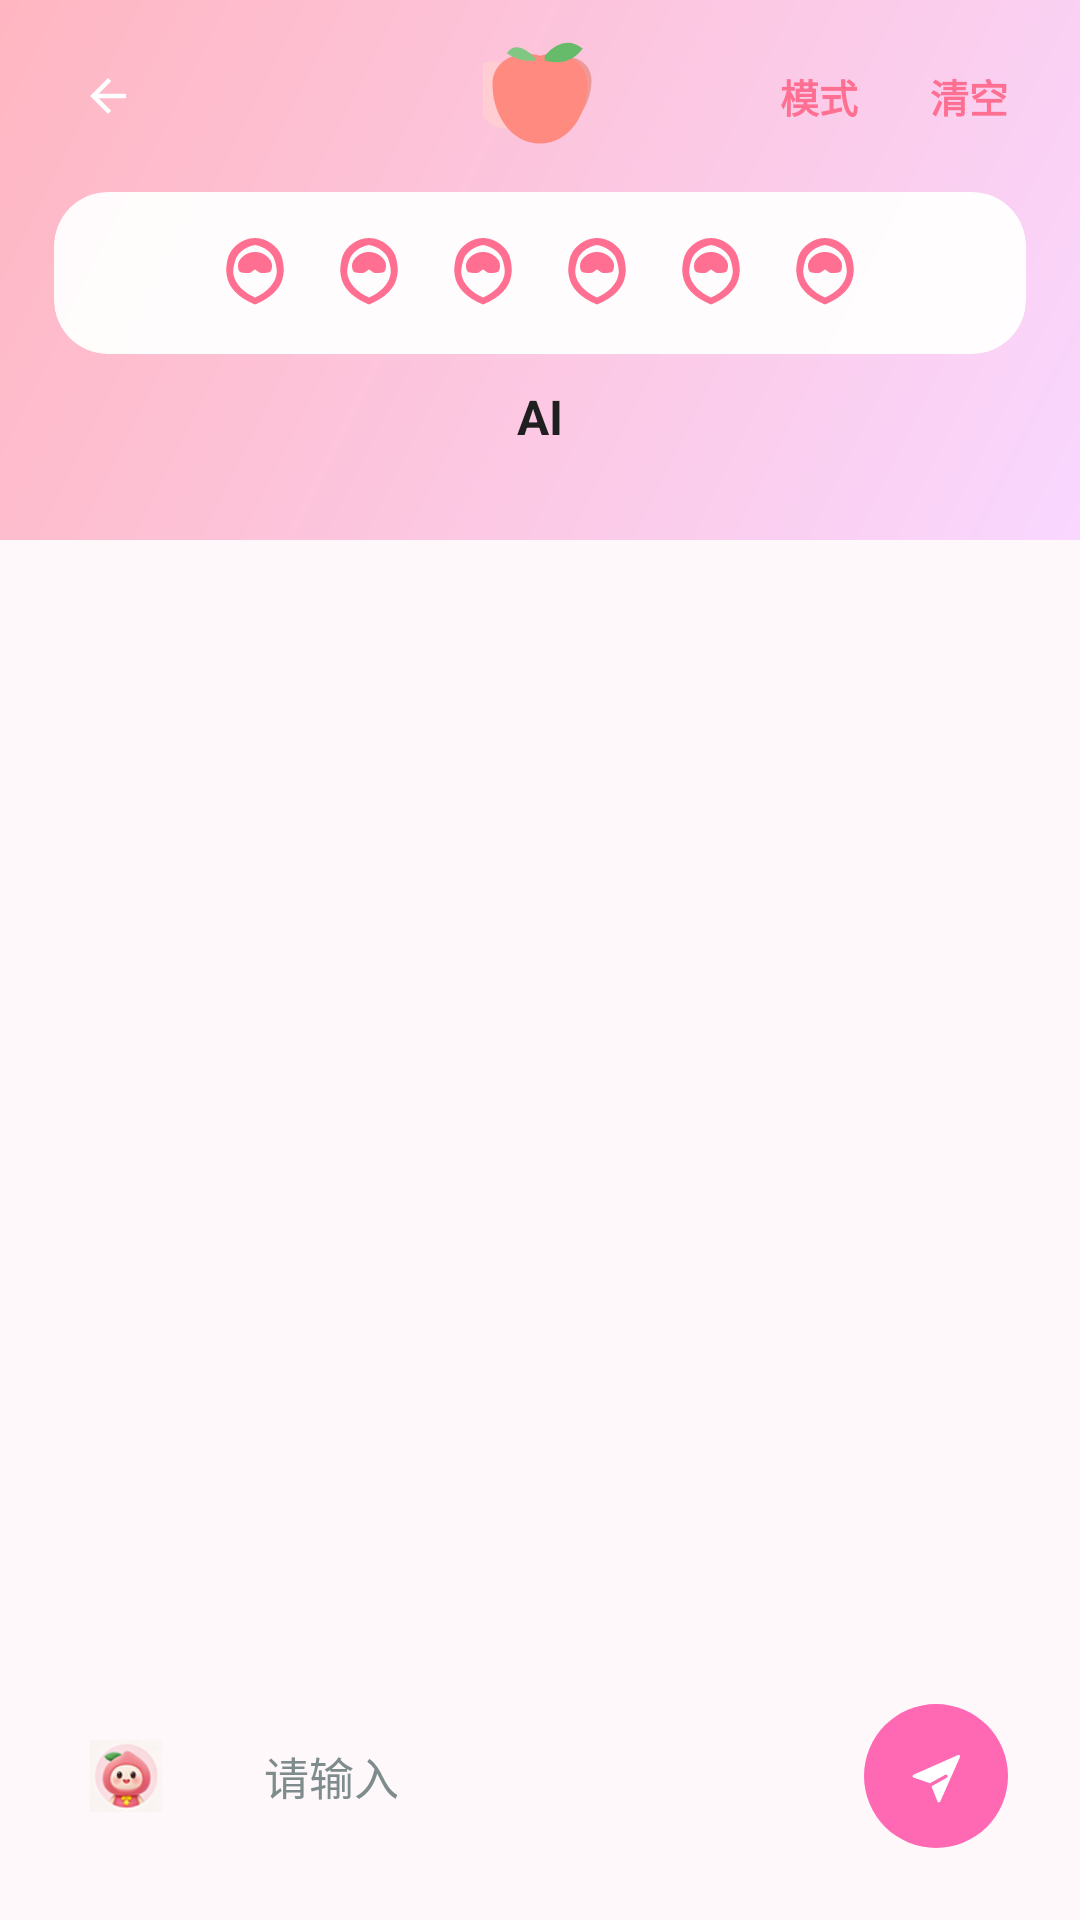

Icons on this 1080 × 1920 Android screen, each with the point to tap as point (x, y):
发送: point (936, 1779)
返回: point (108, 96)
